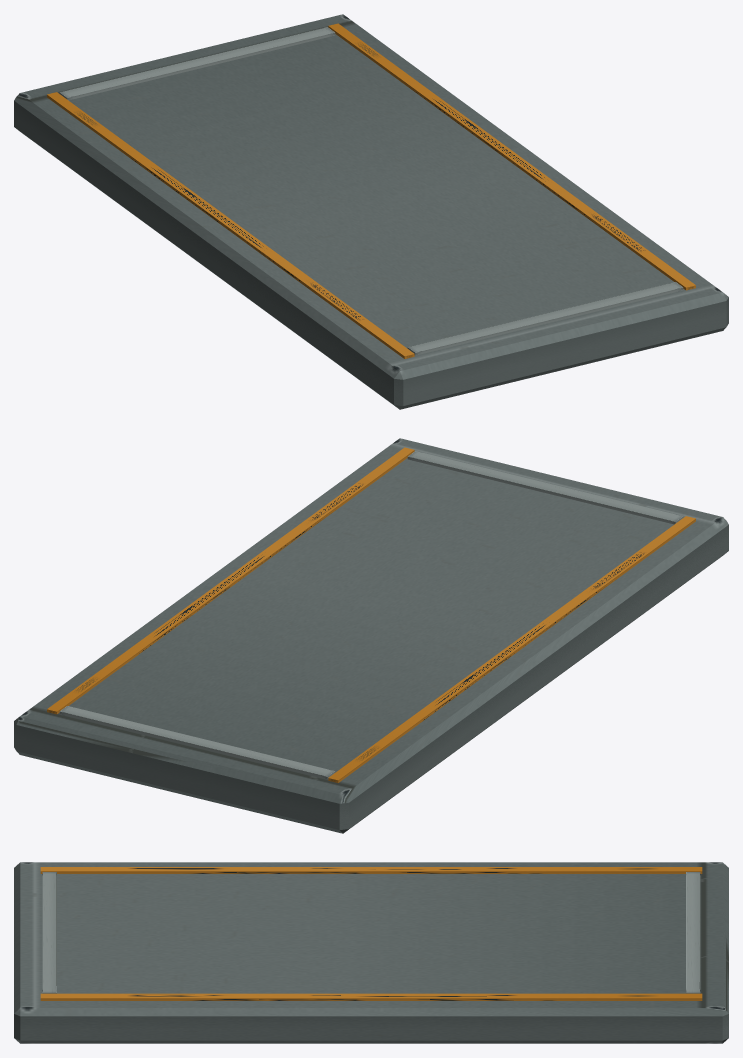
File: floor_2m_LOD1.obj
3 renders of one model, top to bottom at view 1: azimuth 30°, elevation 25°; view 2: azimuth 150°, elevation 25°; view 3: azimuth 270°, elevation 25°, orthographic. The views are drawn at different scales.
Visible parts, largest first — view 1: L02_floor_2m_LOD1; view 2: L02_floor_2m_LOD1; view 3: L02_floor_2m_LOD1.
Boxes of the visible parts, x1,y1,x2,y2 form: L02_floor_2m_LOD1: (14,14,728,409); L02_floor_2m_LOD1: (14,438,728,833); L02_floor_2m_LOD1: (14,862,728,1043).
Bounding box in the file's own units: 2 × 0.236 × 4.
Materials: 1 (1 with a texture image).
